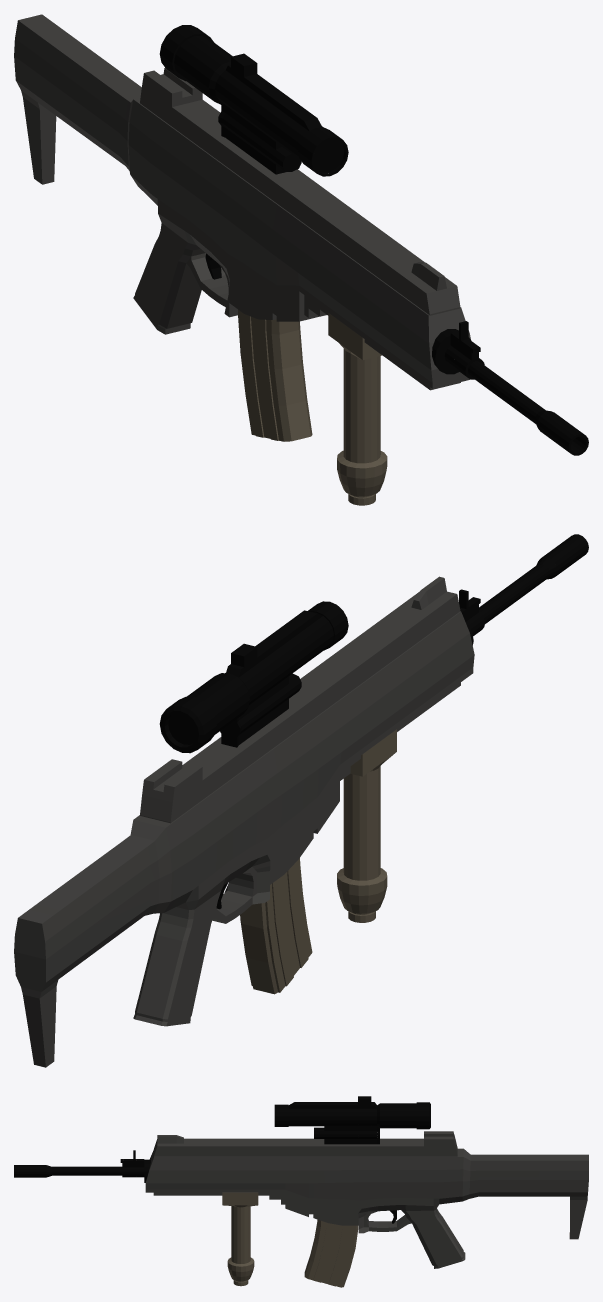
Rendered from Beretta ARX - 160 & Magazine.fbx.
The picture shows the model from 3 angles, top to bottom: view 1: azimuth 30°, elevation 25°; view 2: azimuth 150°, elevation 25°; view 3: azimuth 270°, elevation 25°; orthographic projection. The views are drawn at different scales.
Visible parts, largest first — view 1: Beretta ARX - 160, Beretta ARX - 160 Magazine; view 2: Beretta ARX - 160, Beretta ARX - 160 Magazine; view 3: Beretta ARX - 160, Beretta ARX - 160 Magazine.
Boxes of the visible parts, x1,y1,x2,y2 form: Beretta ARX - 160: (14,14,588,505); Beretta ARX - 160 Magazine: (238,309,312,441); Beretta ARX - 160: (14,534,588,1067); Beretta ARX - 160 Magazine: (240,858,312,994); Beretta ARX - 160: (14,1096,588,1286); Beretta ARX - 160 Magazine: (304,1219,358,1287).
Bounding box in the file's own units: 0.0424 × 0.3227 × 0.9008.
